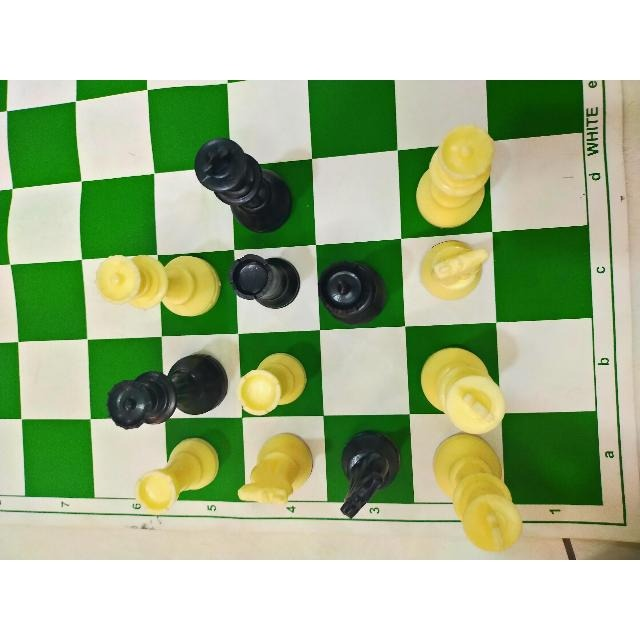black-king: (193, 137, 295, 238)
black-knight: (338, 427, 403, 520)
black-queen: (104, 351, 228, 431), (317, 259, 387, 327)
black-rook: (226, 251, 302, 311)
white-king: (431, 431, 525, 554), (418, 342, 507, 436)
white-knight: (235, 432, 314, 508), (418, 240, 490, 302)
white-queen: (94, 252, 222, 322), (414, 123, 496, 231)
white-rook: (133, 436, 221, 514), (236, 351, 308, 417)
